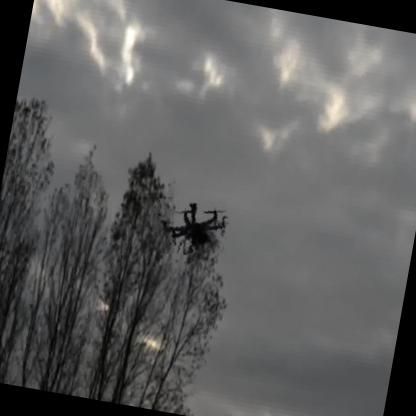drone: (153, 189, 234, 261)
